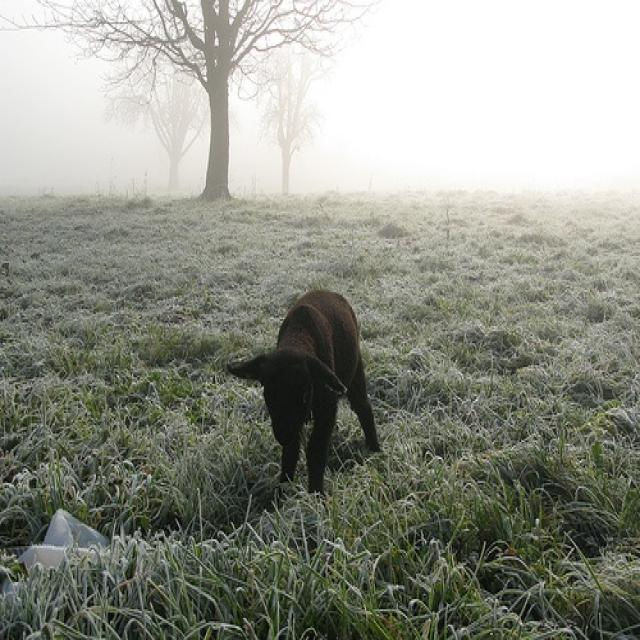sheep: (226, 288, 381, 493)
